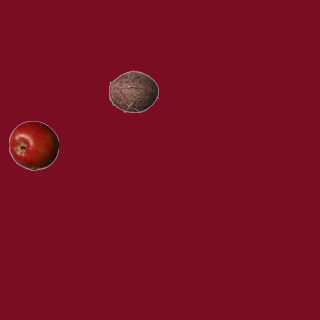Apple Braeburn: (8, 120, 58, 170)
Cocos: (108, 66, 158, 116)
